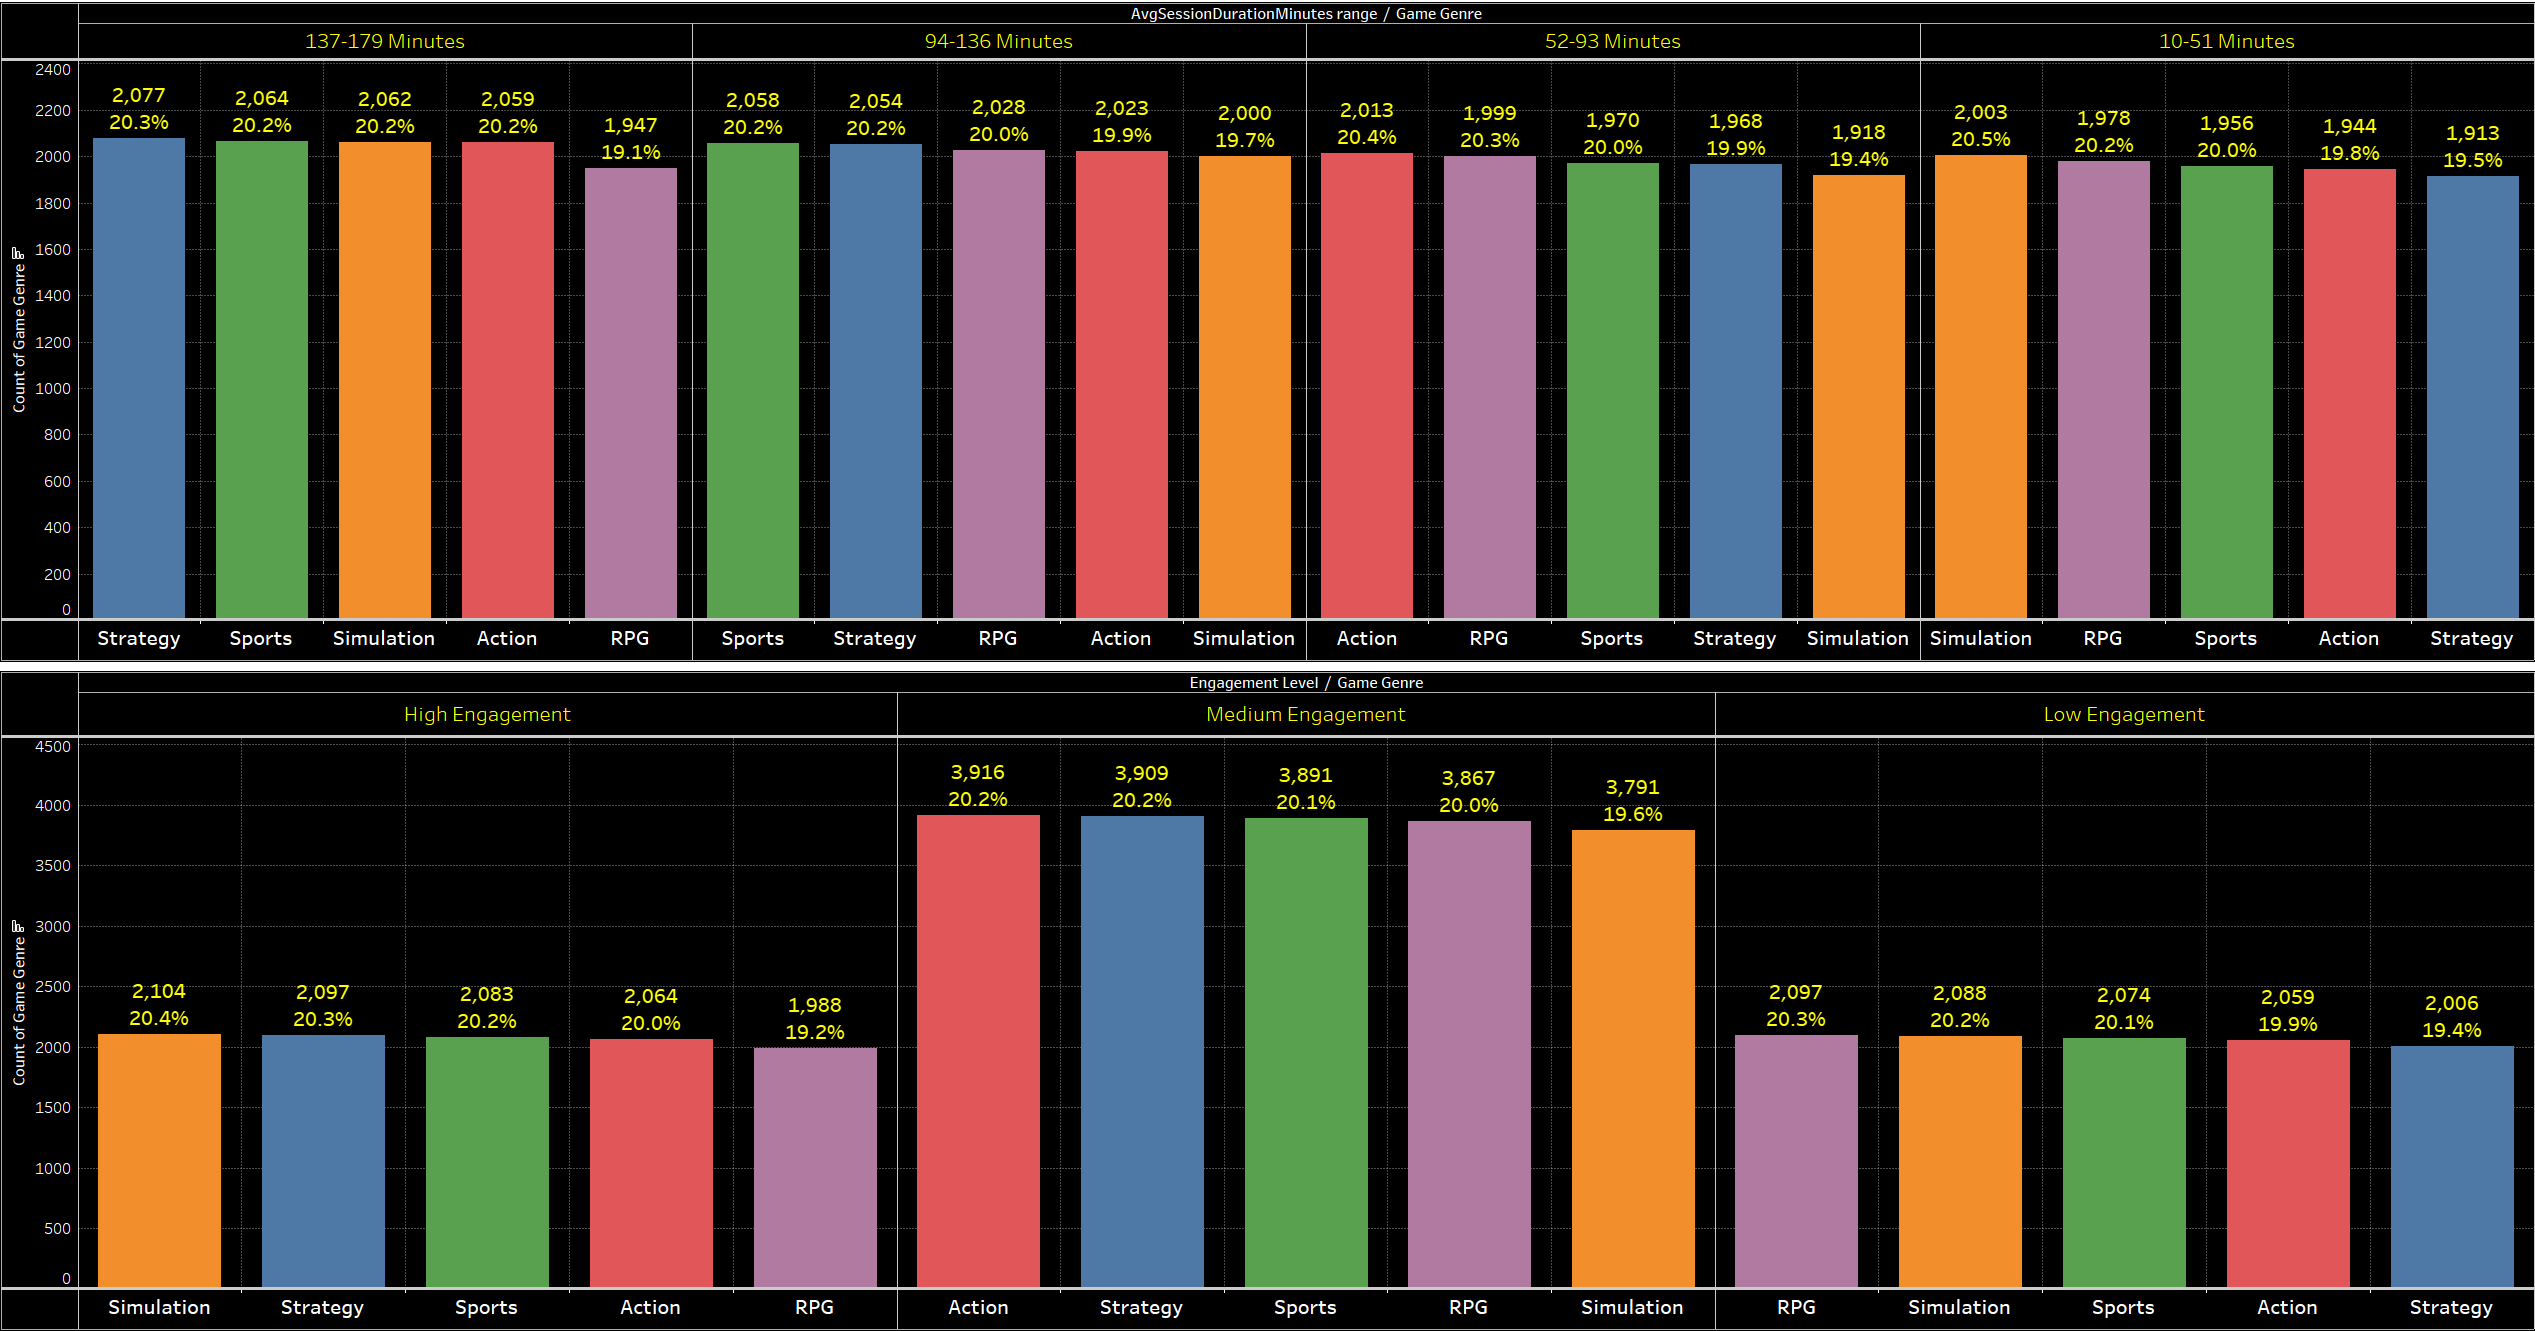

This screenshot's page, from the dashboard's own definition file:
{"tool":"tableau","page":{"name":"GenreAvgSession&Engagement","canvas":[1000,1000],"units":"permille","ordinal":1},"visuals":[{"type":"worksheet","title":"GenreAvgSession","mark":"Automatic","rows":["GameGenre"],"cols":["AvgSessionDurationMinutes_range","GameGenre"],"box":[3.5,6.5,993,493.4]},{"type":"worksheet","title":"GenreEngagement","mark":"Automatic","rows":["GameGenre"],"cols":["EngagementLevel","GameGenre"],"box":[3.5,500,993,493.4]}]}

Visuals, with their boxes on the dashboard's canvas, which has no fixed pixel size, in thousandths of its width and height (x1, y1, x2, y2). These are canvas units, not pixel positions in the 2535x1331 screenshot, which may show the page scaled, cropped or inside an application window:
"GenreAvgSession" worksheet: bbox(4, 6, 996, 500)
"GenreEngagement" worksheet: bbox(4, 500, 996, 993)
